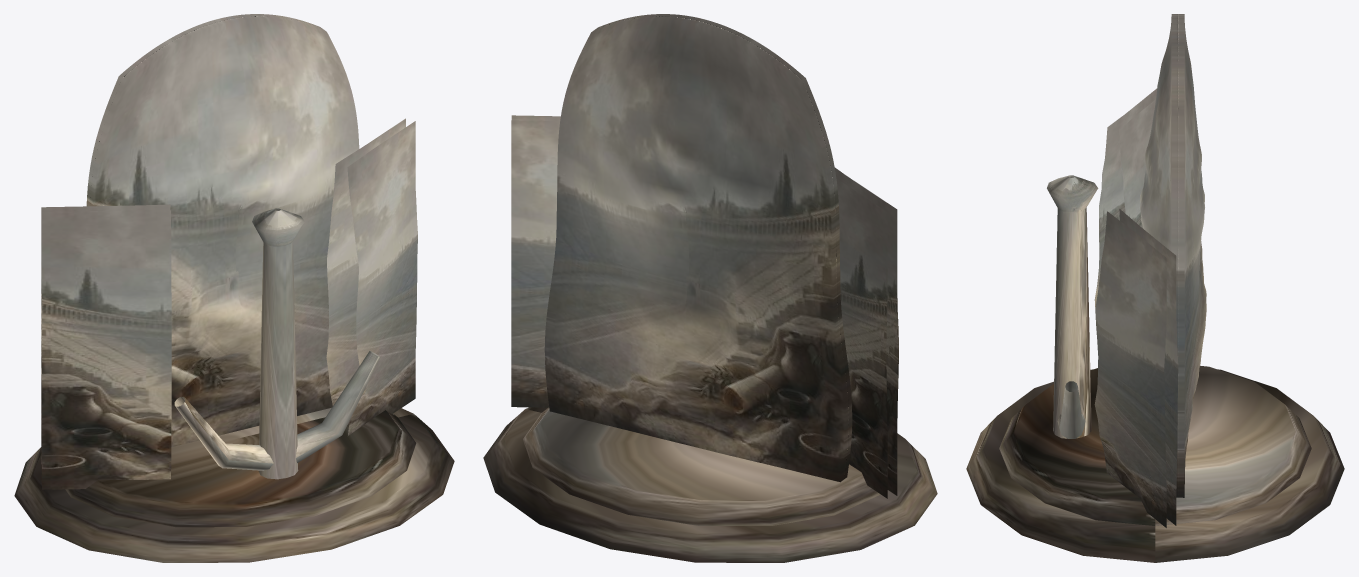
Rendered from anchor-of-the-soul-33.glb.
3 views of the same model, side by side, from view 1: azimuth 30°, elevation 25°; view 2: azimuth 150°, elevation 25°; view 3: azimuth 270°, elevation 25° (orthographic). The views are drawn at different scales.
Visible parts, largest first — view 1: PaintingSculptureMonument; view 2: PaintingSculptureMonument; view 3: PaintingSculptureMonument.
Part boxes in pixels (x1,y1,x2,y2): PaintingSculptureMonument: (14,14,454,562); PaintingSculptureMonument: (483,14,937,562); PaintingSculptureMonument: (966,14,1344,562).
Size of the model in its own units: 2.76 by 2.99 by 2.35.
Materials: 1 (1 with a texture image).
